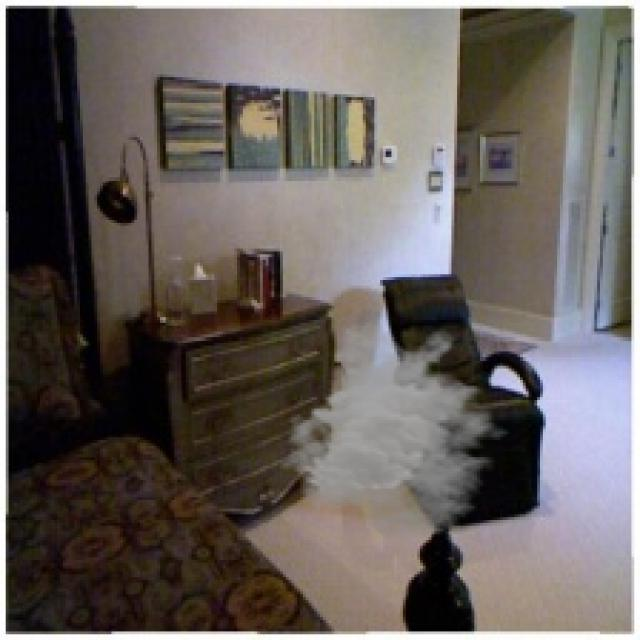Smoke: (277, 320, 517, 540)
